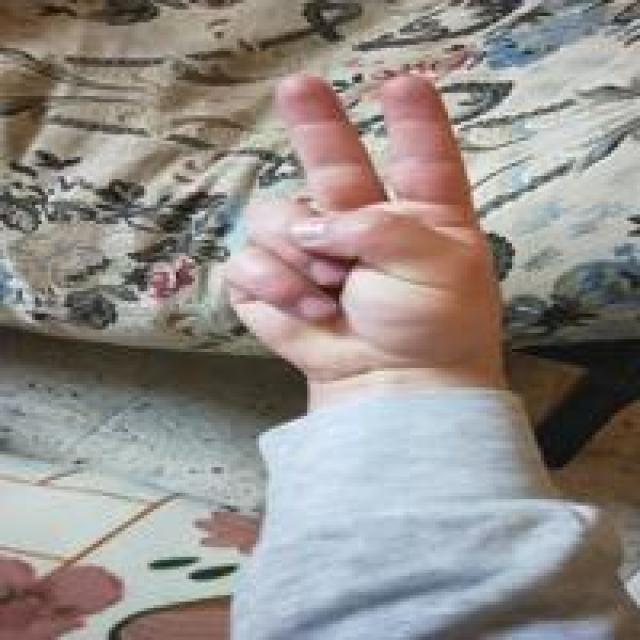V: (222, 66, 504, 379)
